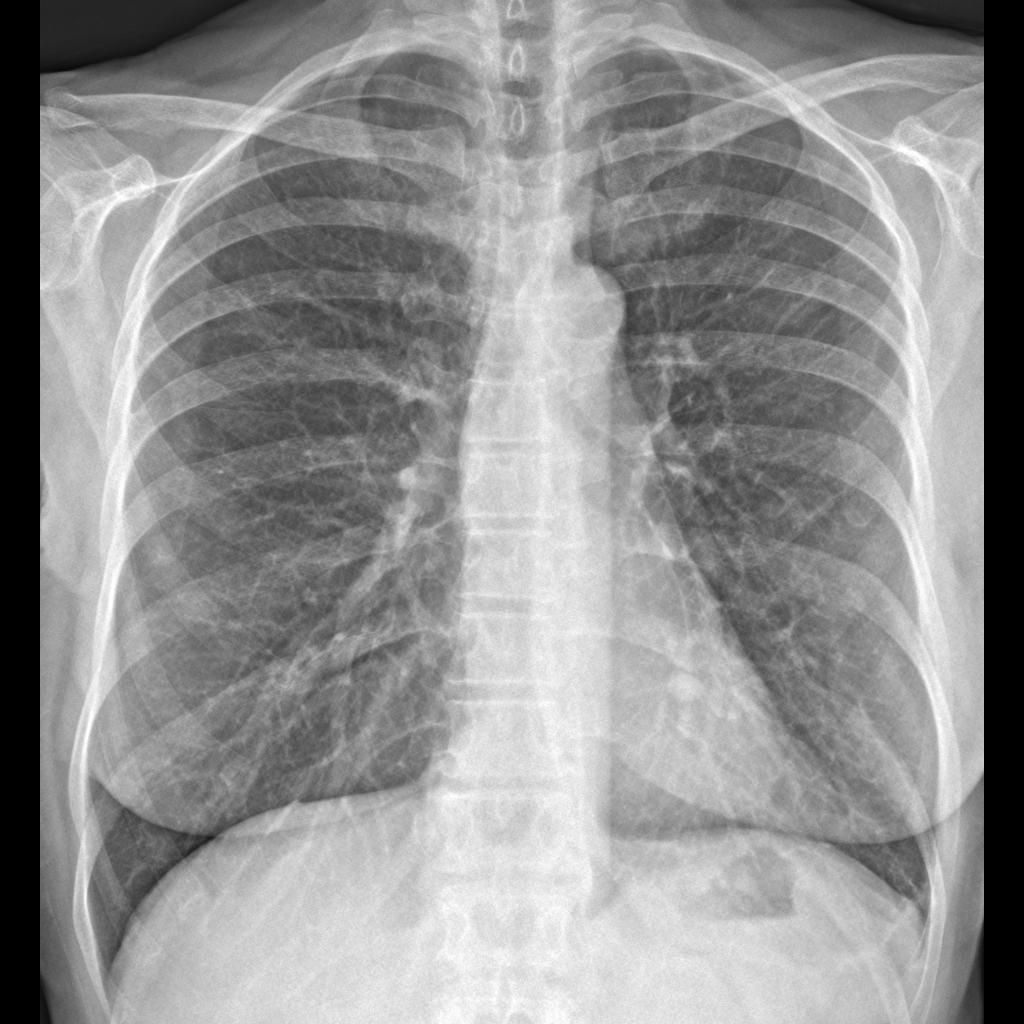Nodule: (666, 663, 711, 712)
